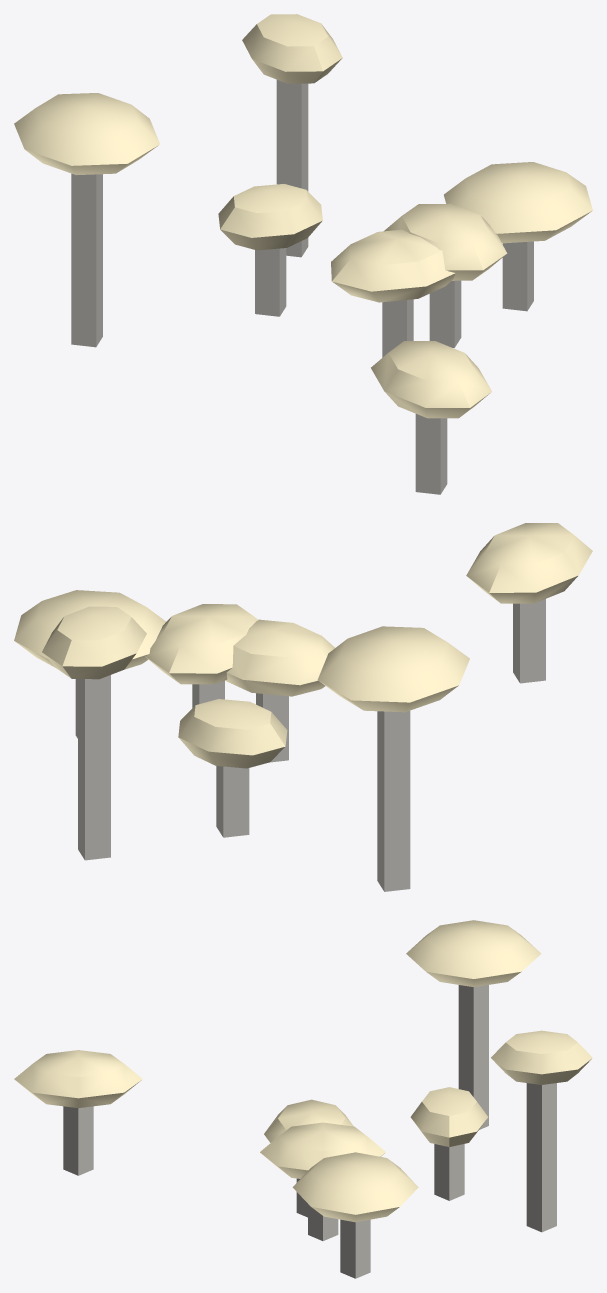
File: glowcap.gltf
The picture shows the model from 3 angles, top to bottom: view 1: azimuth 30°, elevation 25°; view 2: azimuth 150°, elevation 25°; view 3: azimuth 270°, elevation 25°; orthographic projection. The views are drawn at different scales.
Parts seen in each view (by area): view 1: Body; view 2: Body; view 3: Body.
Part boxes in pixels (bbox=[...]): Body: bbox=[14, 14, 592, 494]; Body: bbox=[14, 523, 592, 891]; Body: bbox=[14, 920, 592, 1278].
Bounding box in the file's own units: 0.7799 × 0.3539 × 0.9563.
